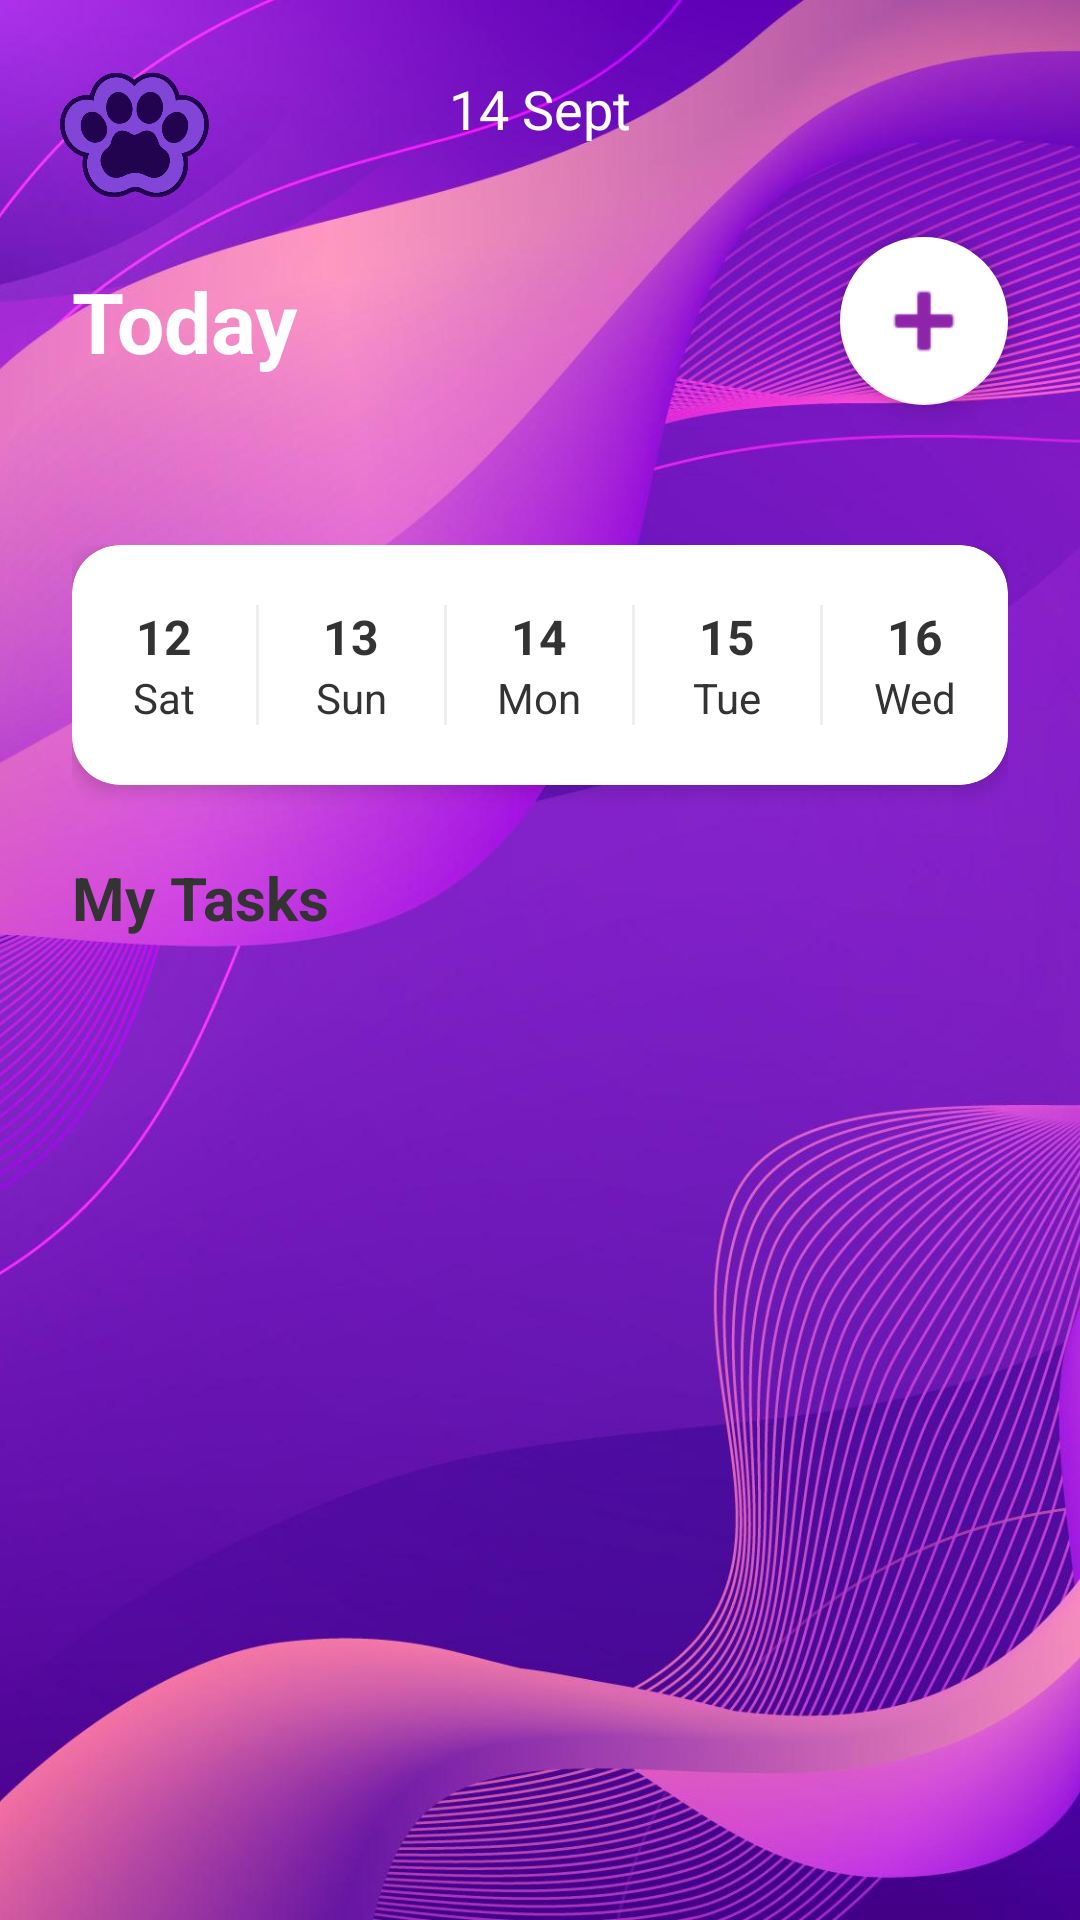

Icon click points for this 1080px x 1920px phone screenshot, format [x,y]:
Add Task: [924,321]
